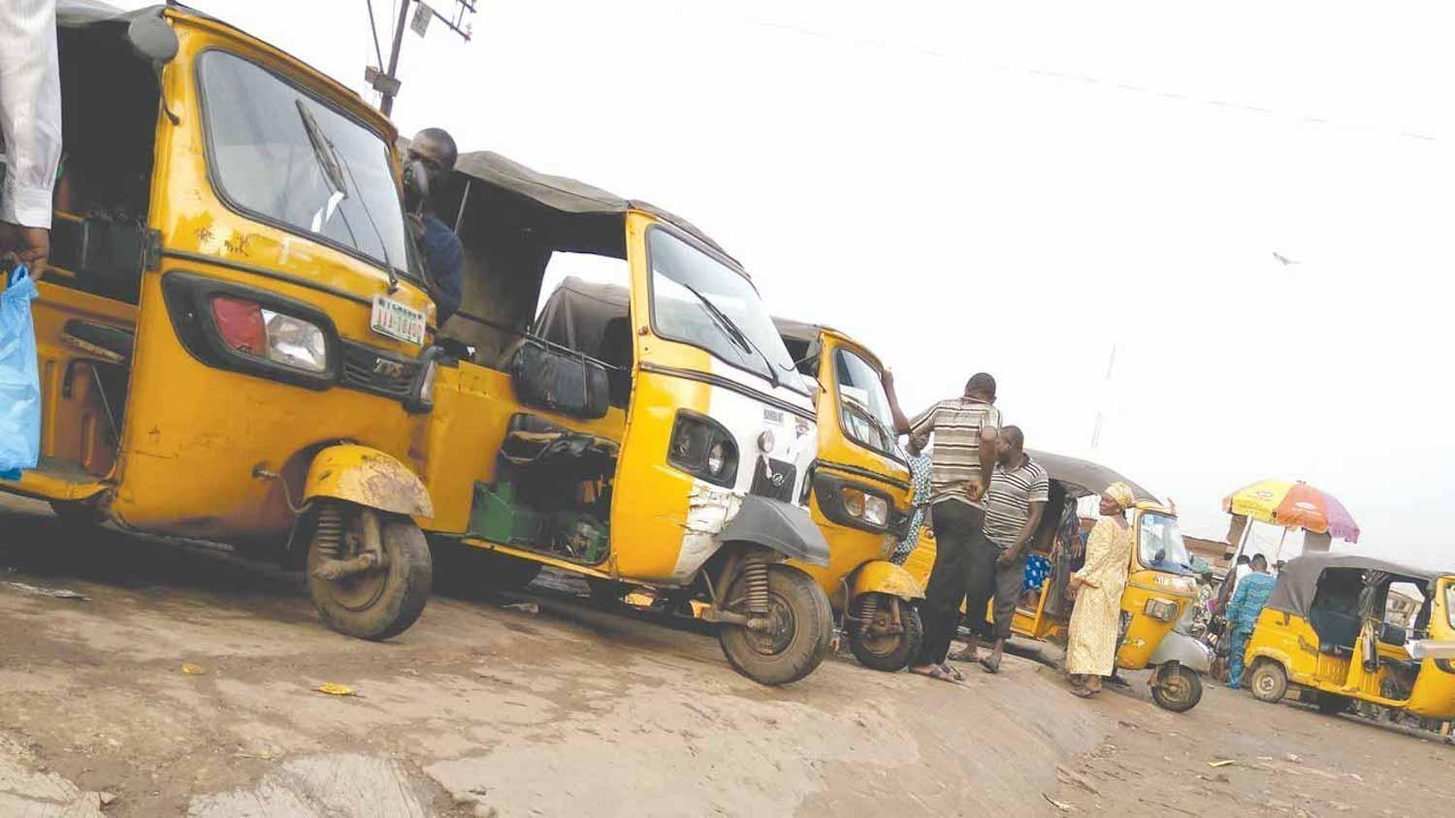keke: (15, 0, 441, 644), (456, 110, 841, 697), (1243, 548, 1446, 763)
